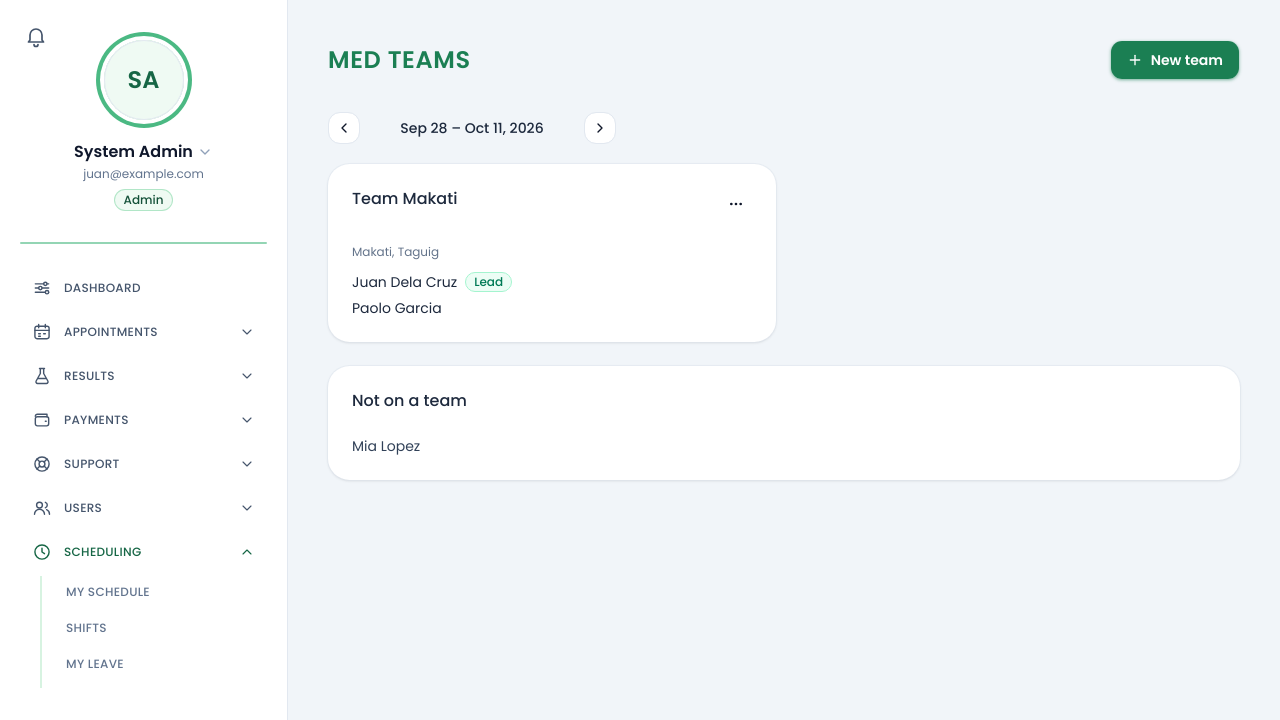
Test: TeamsPage › moves to the next two weeks
Click the button named "Next two weeks". click: (600,128)
box: [584,112,616,144]
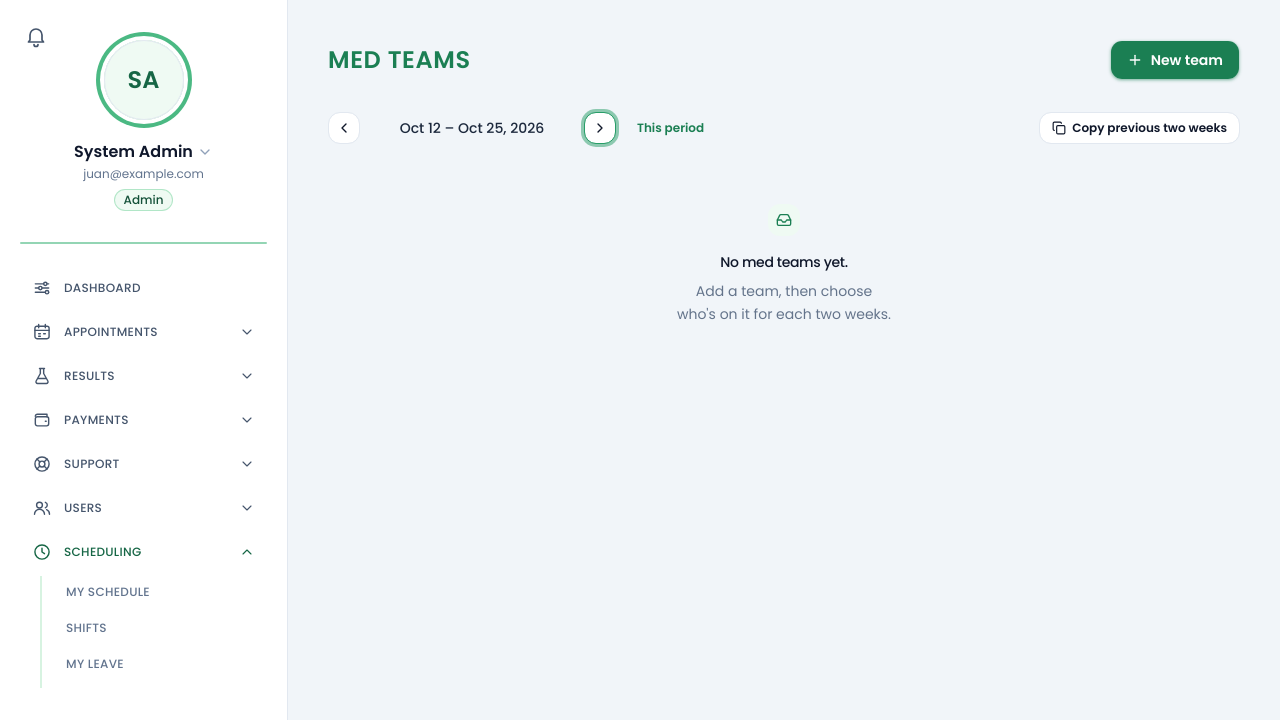
Now the text "Oct 12 – Oct 25, 2026" is shown, box [400,118,544,138]
